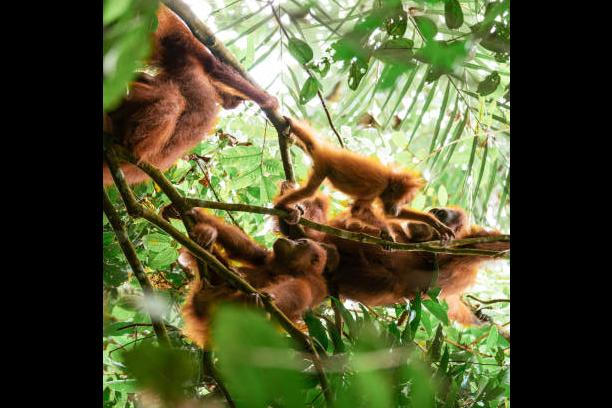Non_Gorille: (102, 18, 509, 351)
